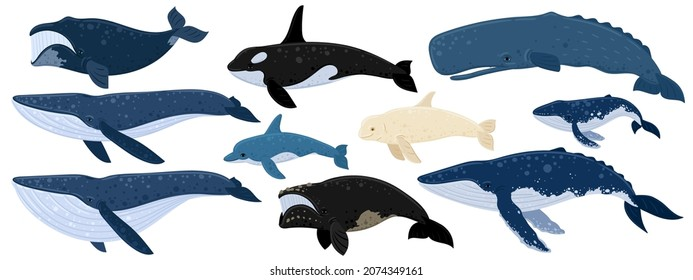fish: (408, 145, 687, 254), (428, 11, 687, 103), (9, 171, 263, 256), (225, 3, 424, 110), (8, 90, 264, 169), (20, 6, 208, 89), (270, 175, 456, 255), (223, 111, 351, 181), (531, 97, 667, 149)
